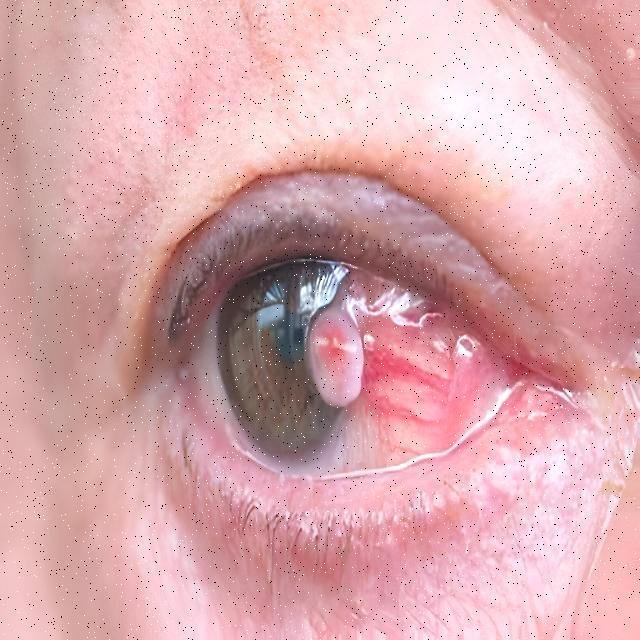Pterygium: (292, 263, 508, 456)
